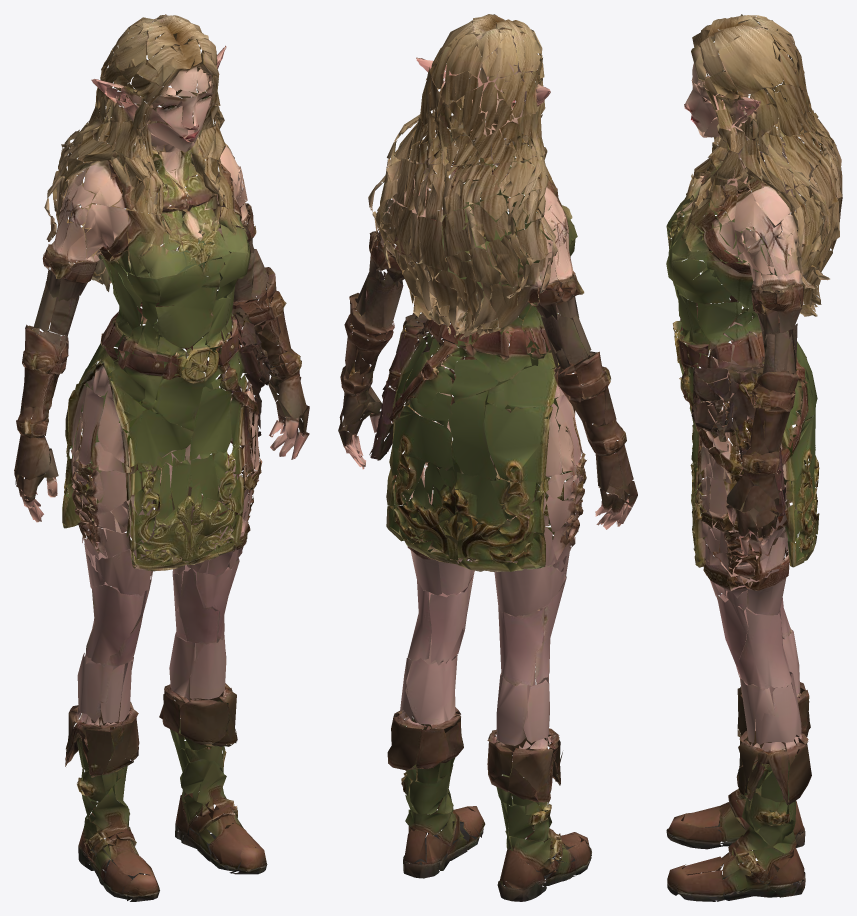
The model's file is elven_warrior_runtime.glb.
3 views of the same model, side by side, from view 1: azimuth 30°, elevation 25°; view 2: azimuth 150°, elevation 25°; view 3: azimuth 270°, elevation 25° (orthographic).
Parts seen in each view (by area): view 1: elven_warrior_runtime; view 2: elven_warrior_runtime; view 3: elven_warrior_runtime.
Part boxes in pixels (x1,y1,x2,y2): elven_warrior_runtime: (14, 14, 309, 901); elven_warrior_runtime: (338, 14, 637, 901); elven_warrior_runtime: (666, 14, 842, 901).
Size of the model in its own units: 0.6814 by 1.9 by 0.3599.
Materials: 1 (1 with a texture image).
